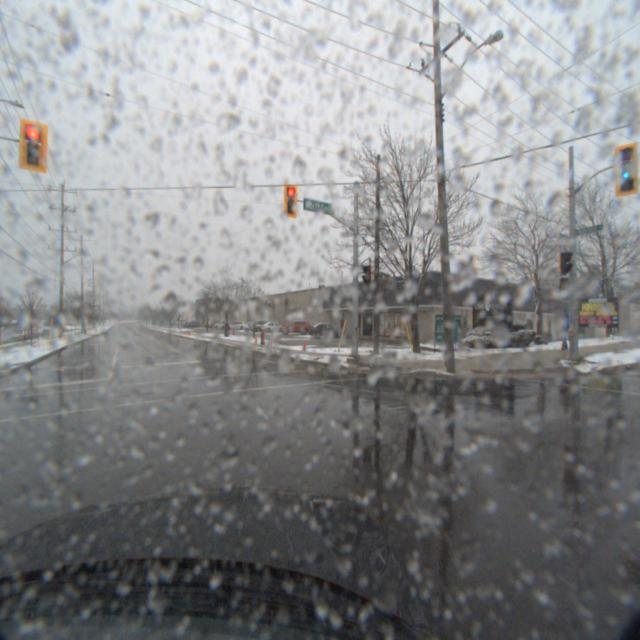Car: (303, 322, 342, 342), (273, 320, 308, 338)
Pedestrian: (548, 306, 574, 352)
